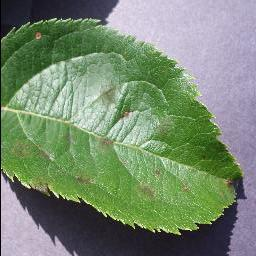apple healthy: (0, 16, 243, 236)
